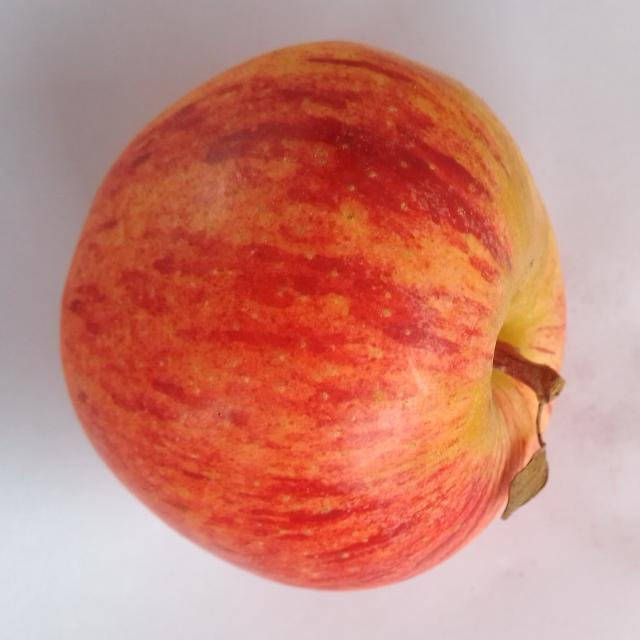Fresh Apple: (72, 48, 568, 590)
